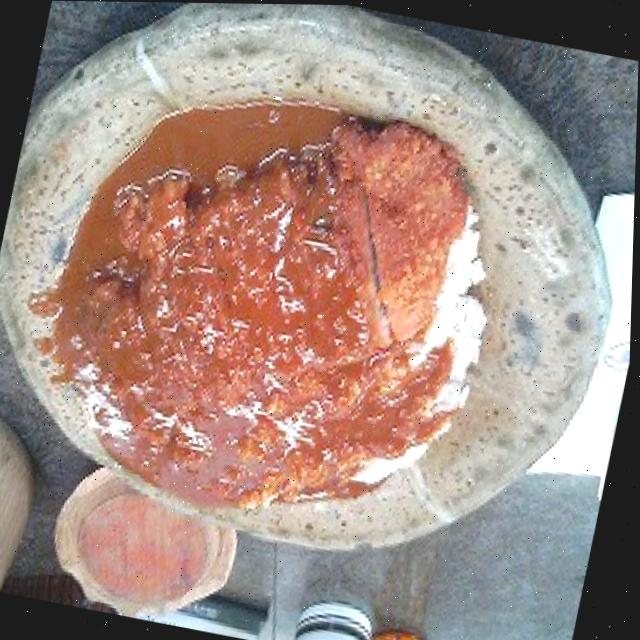猪肉菜式: (0, 0, 640, 607)
